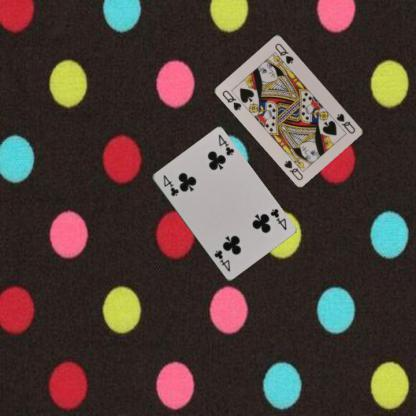4c: (268, 206, 288, 231), (161, 172, 180, 198)
Qs: (220, 88, 243, 112), (334, 111, 356, 135)
